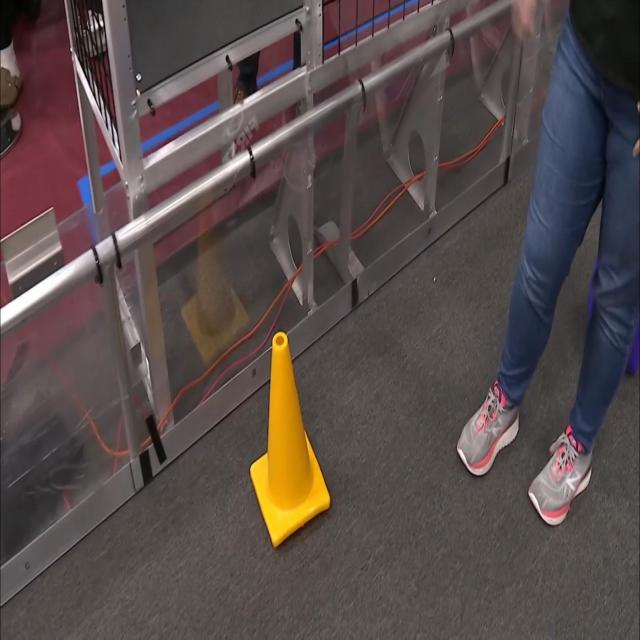frc_cone: (248, 333, 331, 548)
